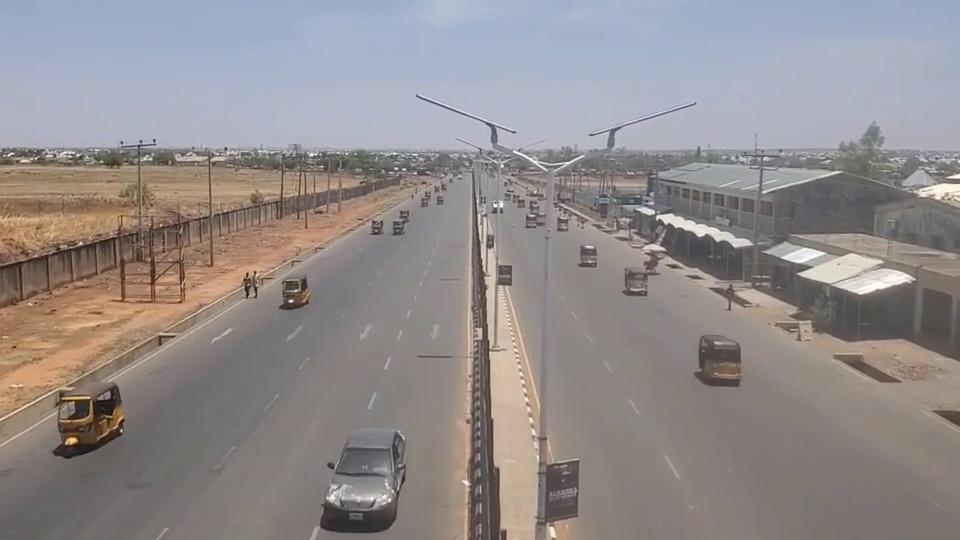car: (320, 427, 405, 527)
keke: (55, 380, 125, 448), (698, 335, 742, 383), (280, 276, 309, 308), (624, 266, 649, 295), (579, 244, 598, 266), (392, 219, 406, 235), (370, 219, 383, 235)
